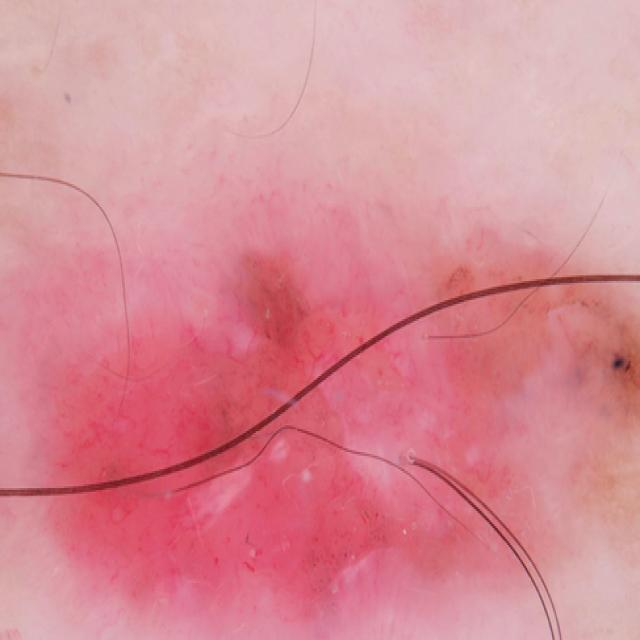Carcinoma: (62, 225, 597, 628)
